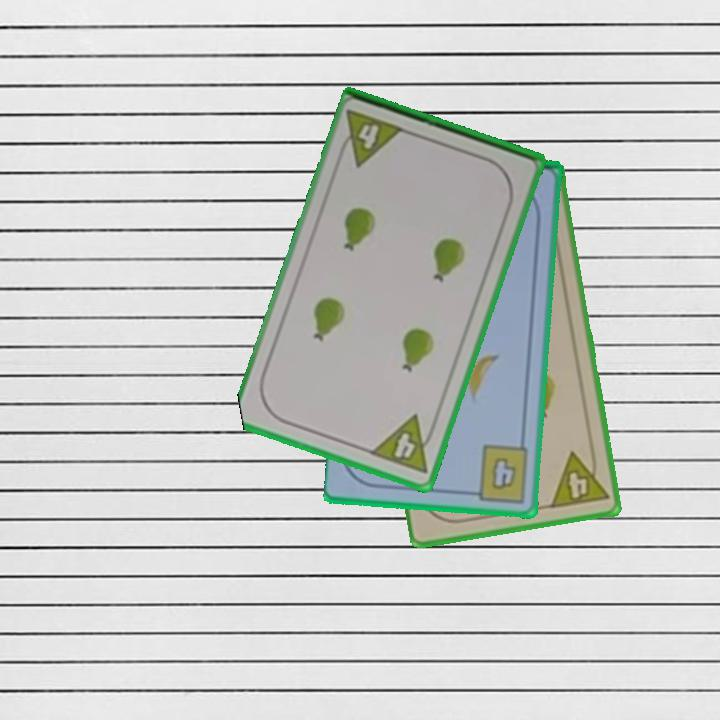4b: (465, 441, 532, 506)
4p: (367, 411, 441, 478), (334, 106, 408, 169), (547, 445, 612, 512)
